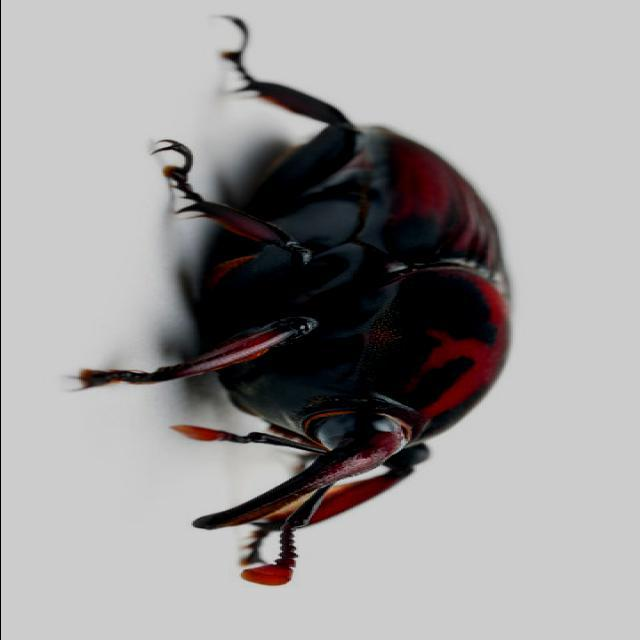Red-palm-weevil: (151, 10, 514, 588)
